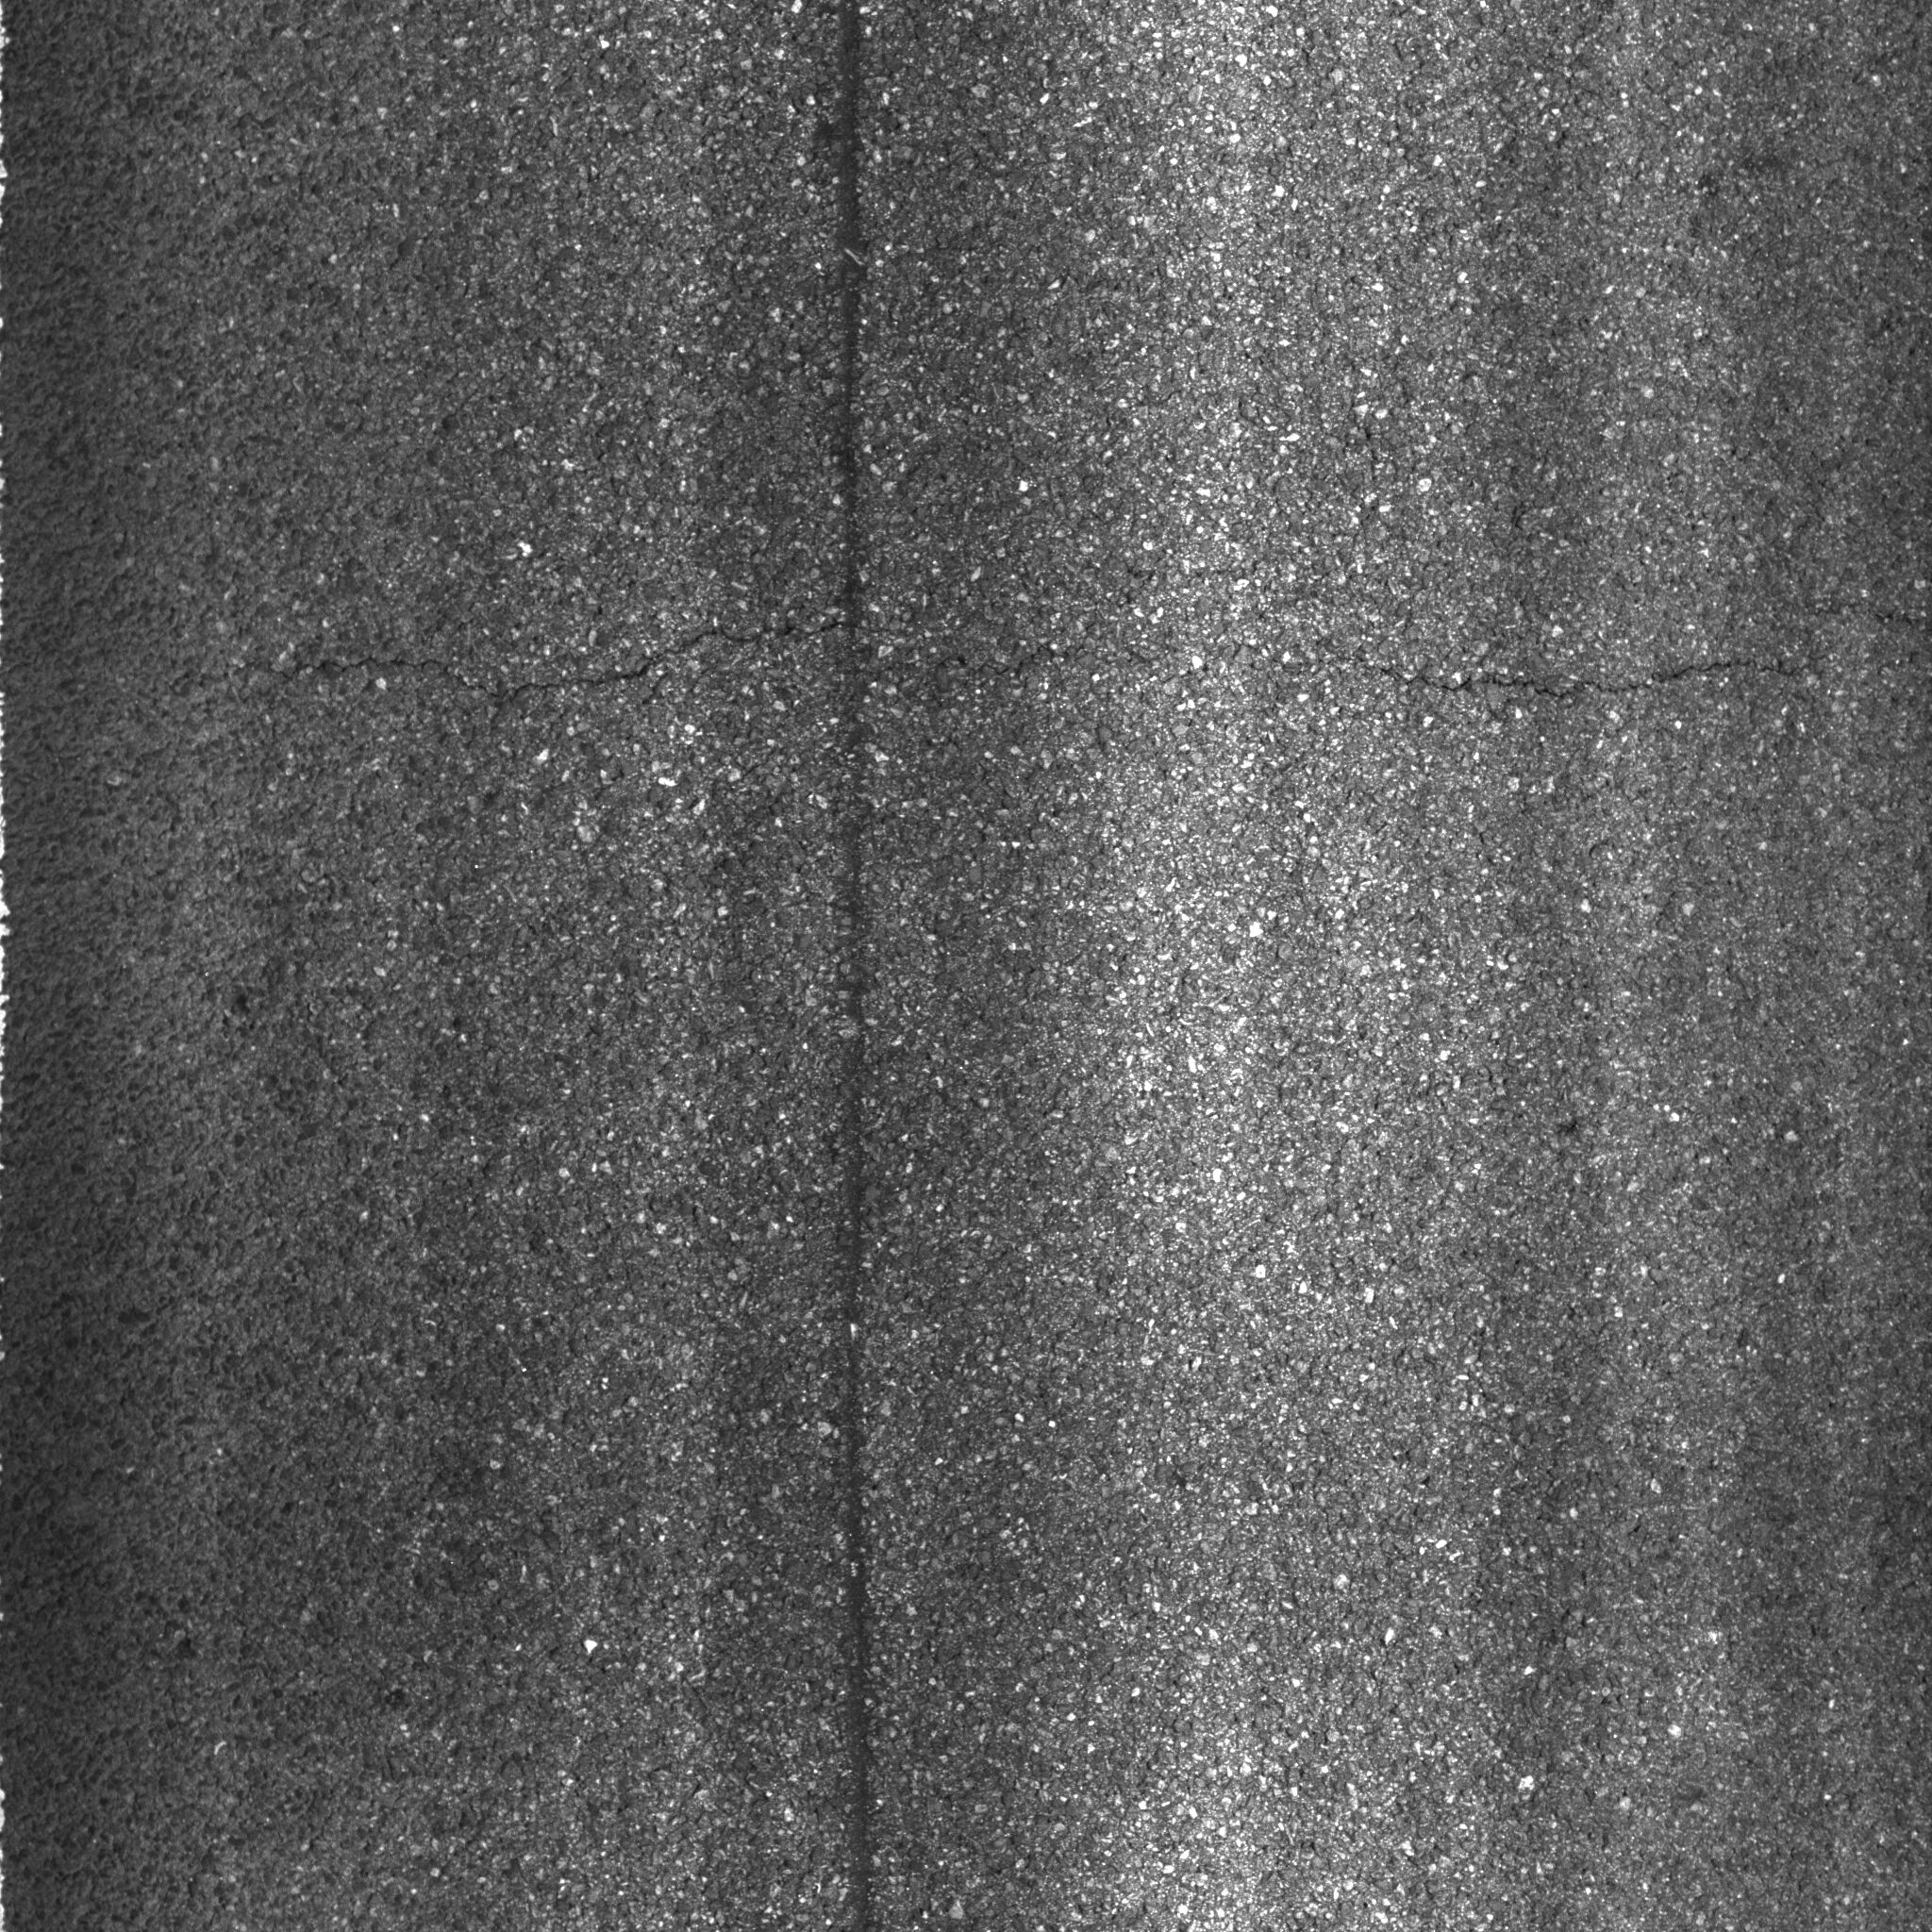transverse: (179, 596, 1856, 734)
